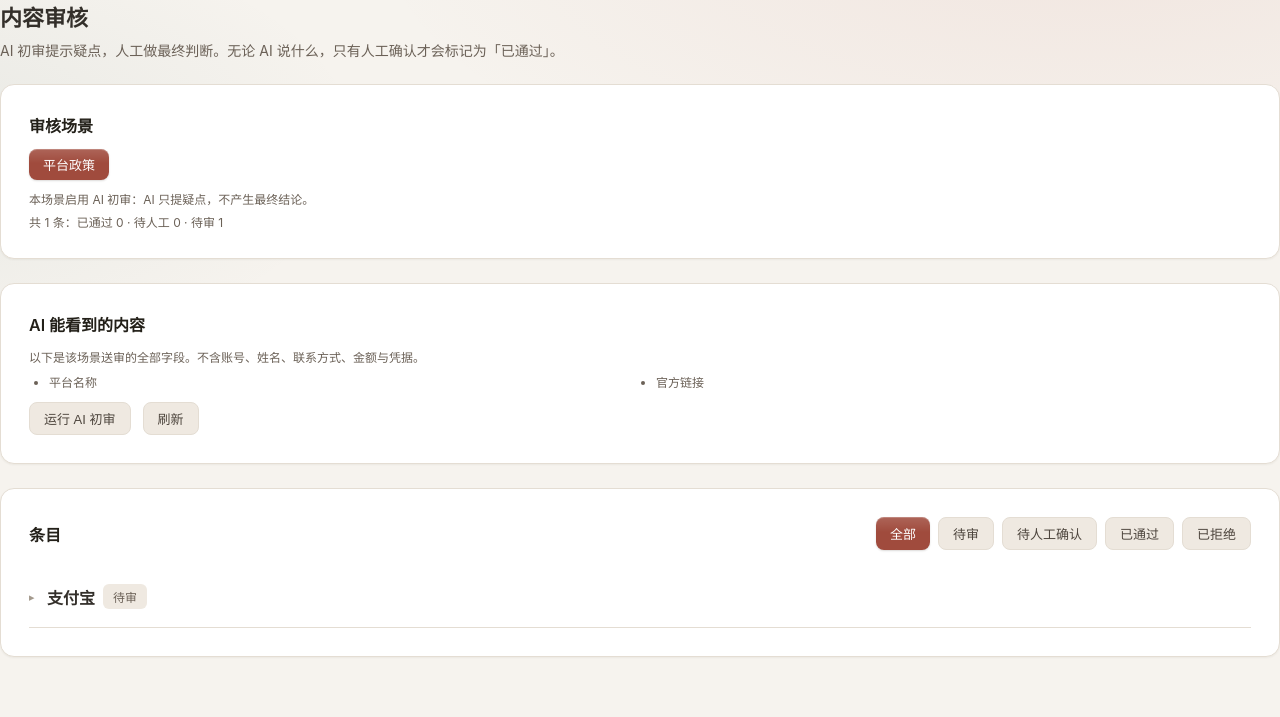
Test: AI 初审与人工终审的分工 › AI 初审后条目显示「未发现问题」但仍为「待人工确认」
Click the button "运行 AI 初审" at (80, 418), box [29, 402, 130, 435]
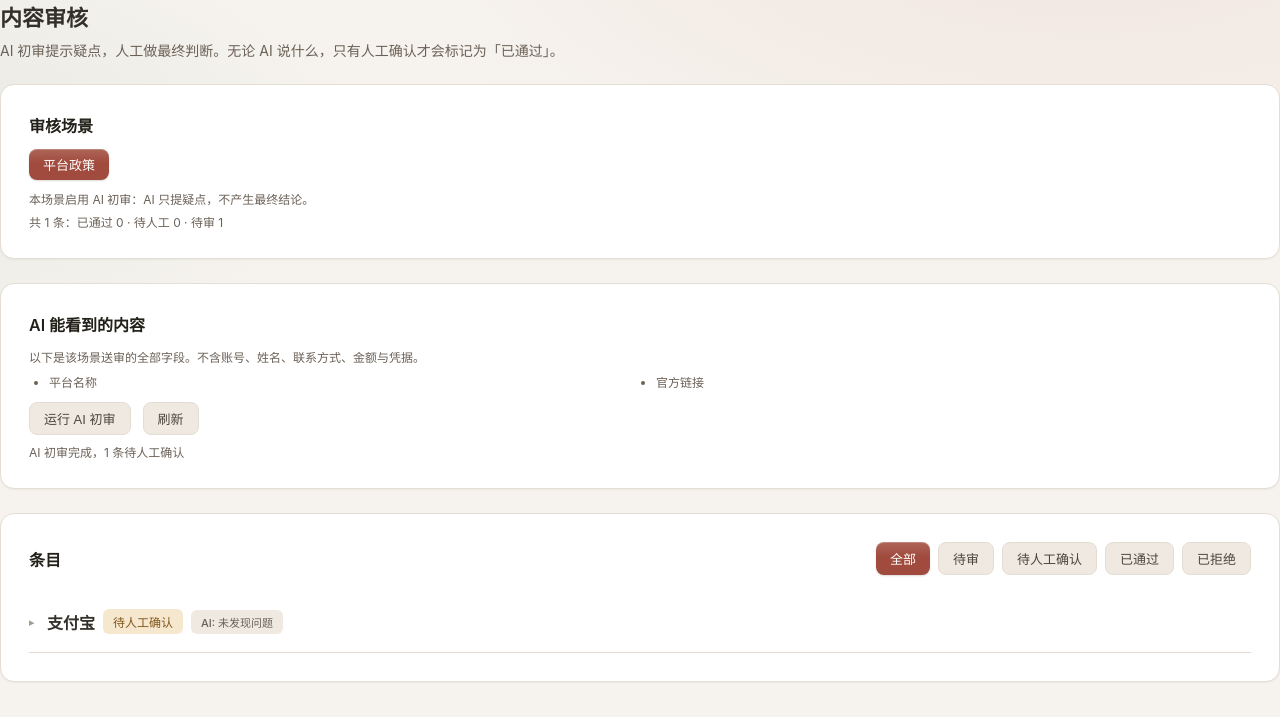
Click the button with class "review-head-btn" at (71, 622), box [29, 605, 1251, 638]
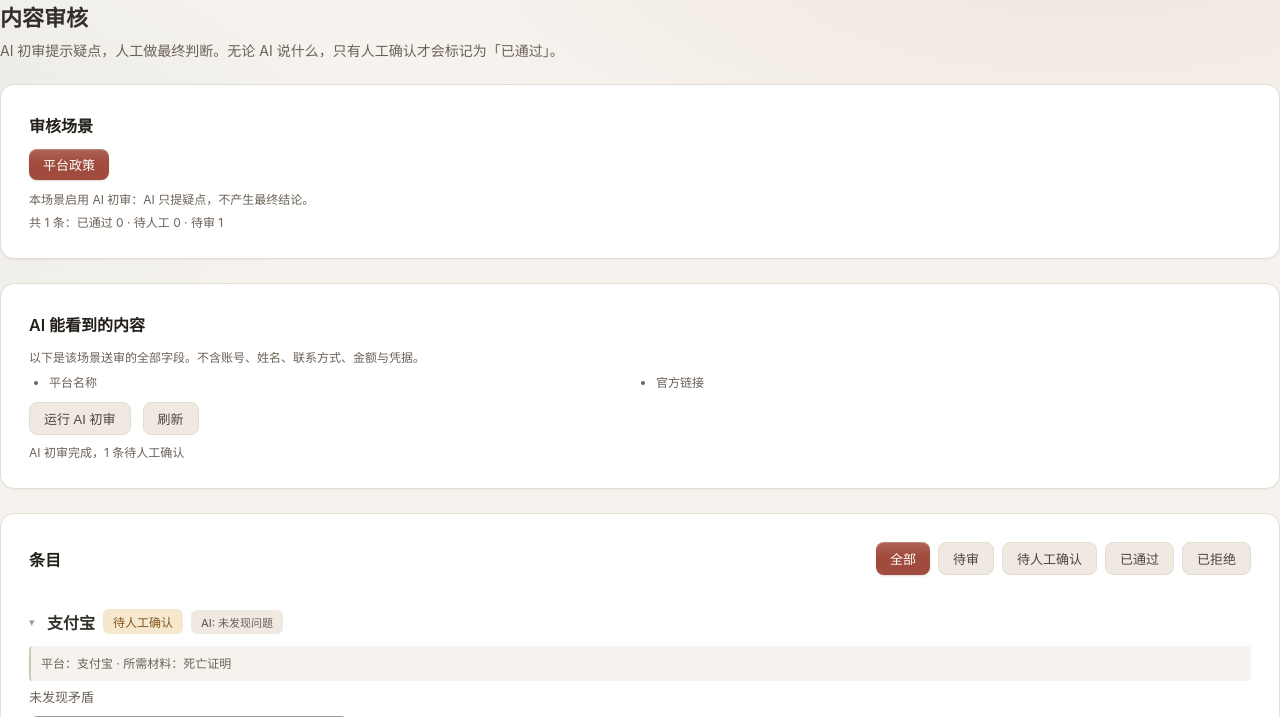
Expected: the text with class "tag" shows "待人工确认", [29, 445, 184, 460]
Now the text "未发现矛盾" is shown, box [29, 689, 94, 705]
